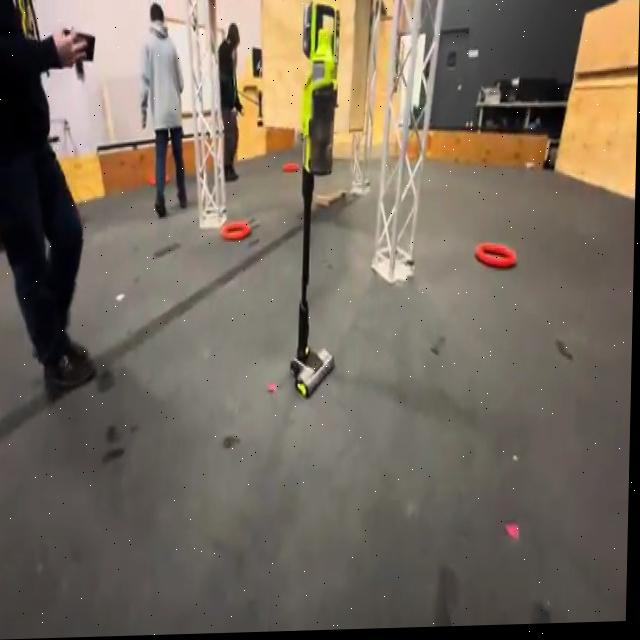note: (475, 245, 519, 274), (223, 222, 253, 244), (283, 164, 299, 175)
